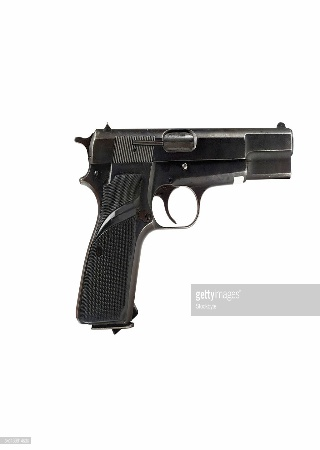handgun: (74, 118, 295, 335)
